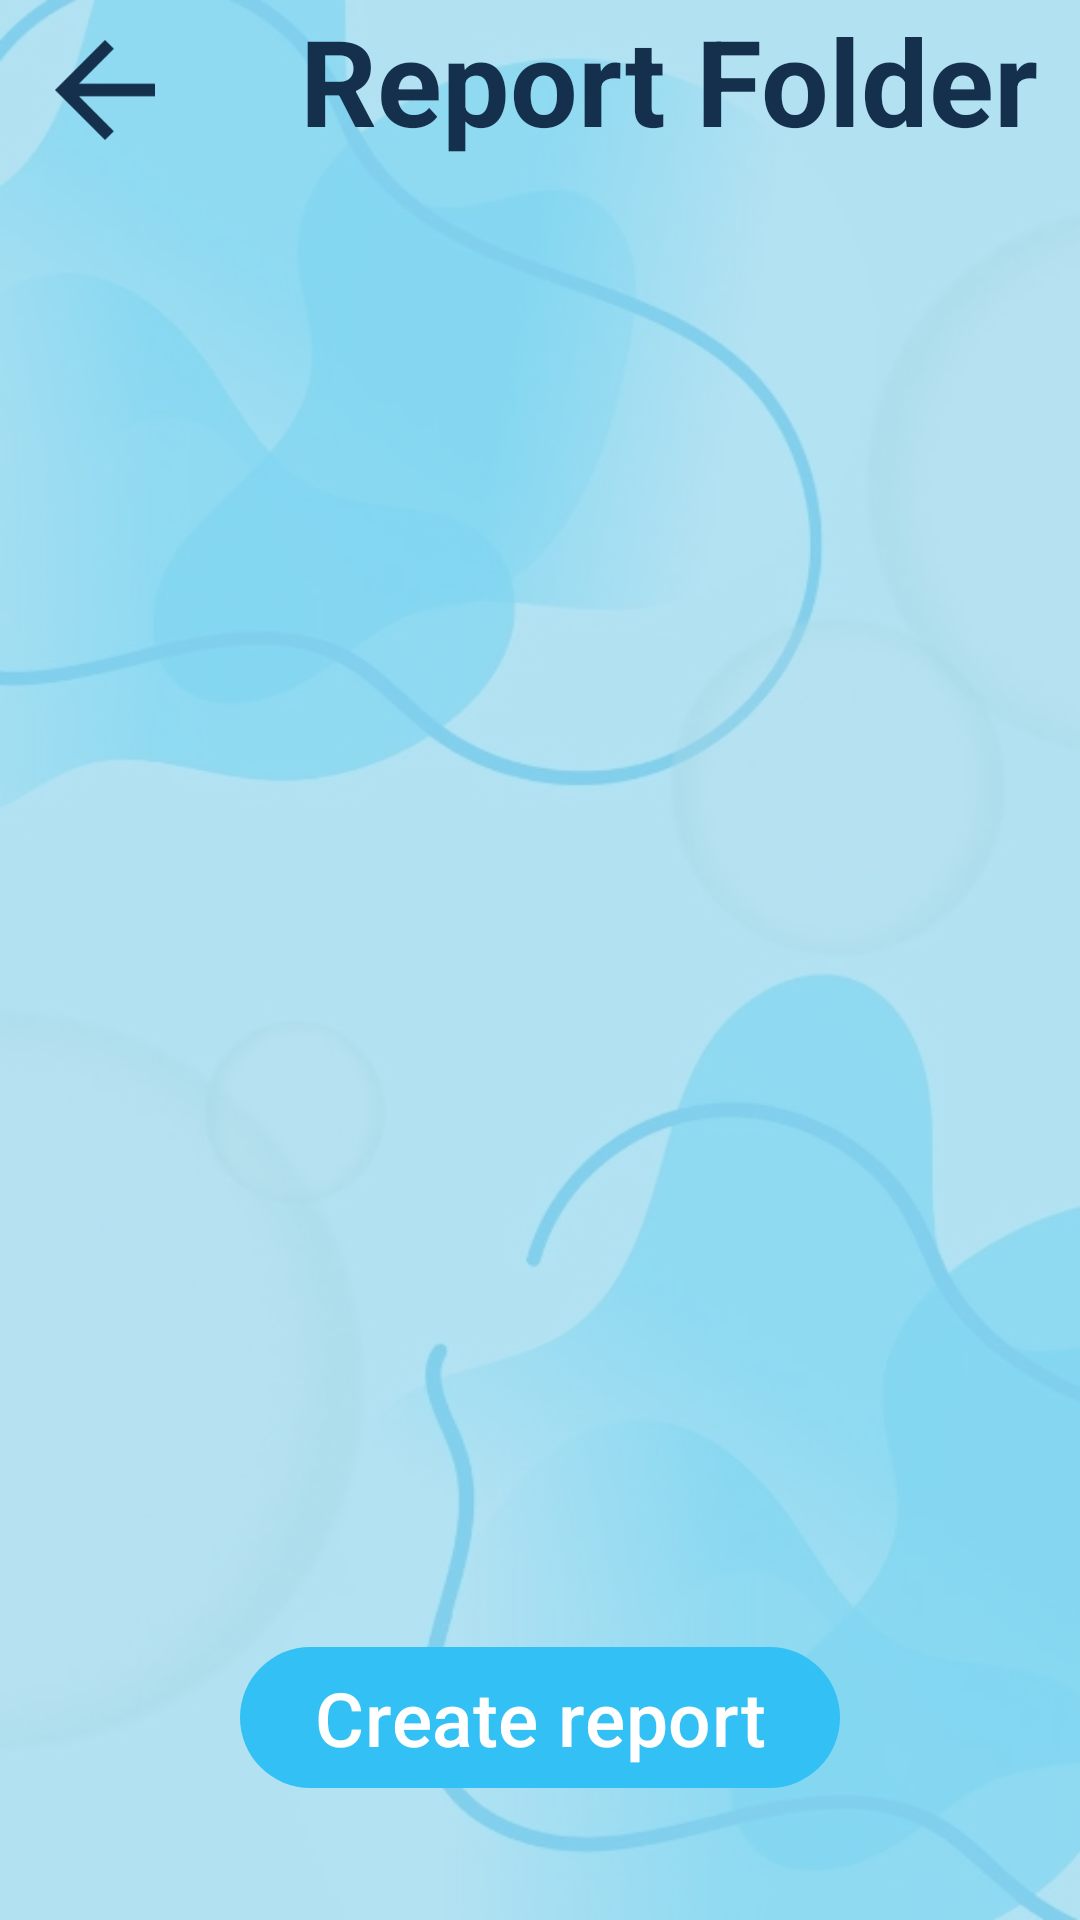

Point at icon controls on the screen. Image size 1080×1920, points as (x=x, y=y).
arrow back: (x=77, y=90)
